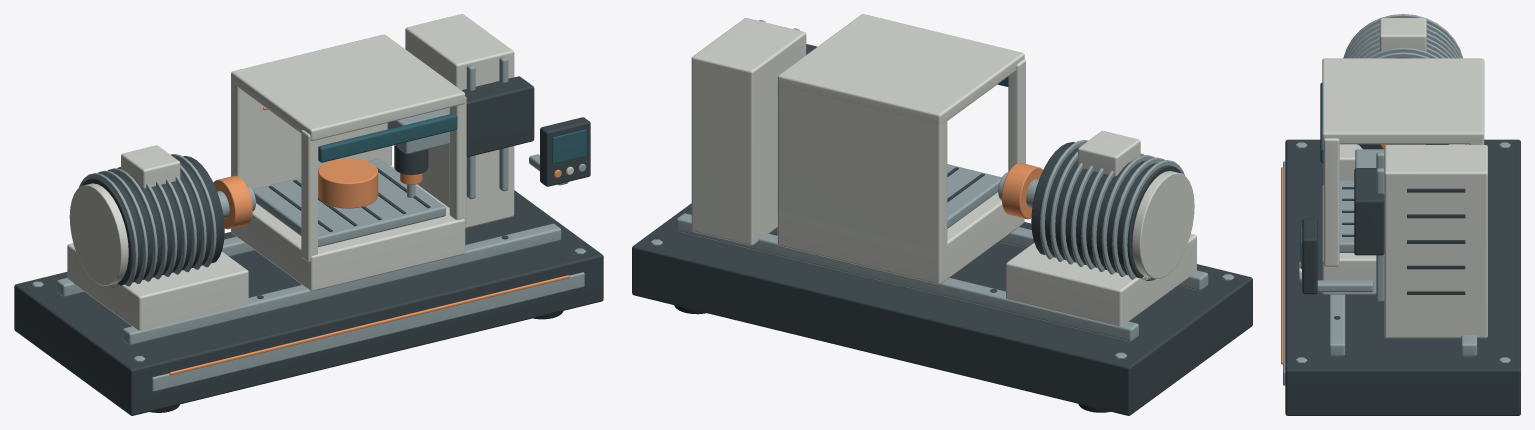
Rendered from machining-cell.glb.
3 renders of one model, left to right at view 1: azimuth 30°, elevation 25°; view 2: azimuth 150°, elevation 25°; view 3: azimuth 270°, elevation 25°, orthographic. The views are drawn at different scales.
Visible parts, largest first — view 1: Monolithic bed, Roof, Chamber tray, Tool tower, Motor pedestal, Rear enclosure, Precision rail, Chamber working plate, Motor casing, Bed inset, Drive cover, Tool carriage (+23 smaller); view 2: Monolithic bed, Rear enclosure, Tool tower, Roof, Chamber tray, Motor pedestal, Motor casing, Precision rail.001, Drive cover, Terminal housing, Chamber working plate, Enclosure column (+11 smaller); view 3: Monolithic bed, Tool tower, Roof, Tool carriage, Enclosure column.001, Chamber tray, Terminal housing, Operator panel, Precision rail, Chamber working plate, Control arm, Bed inset (+19 smaller).
Part boxes in pixels (<box>): Monolithic bed: <box>14,190,603,415</box>; Roof: <box>231,34,465,140</box>; Chamber tray: <box>231,165,465,291</box>; Tool tower: <box>405,14,514,228</box>; Motor pedestal: <box>67,243,248,330</box>; Rear enclosure: <box>231,81,391,189</box>; Precision rail: <box>122,223,561,345</box>; Chamber working plate: <box>252,158,445,247</box>; Motor casing: <box>82,156,224,287</box>; Bed inset: <box>152,272,584,391</box>; Drive cover: <box>69,183,128,285</box>; Tool carriage: <box>462,76,534,156</box>; Monolithic bed: <box>632,203,1252,415</box>; Rear enclosure: <box>777,85,947,249</box>; Tool tower: <box>691,18,806,245</box>; Roof: <box>777,14,1024,124</box>; Chamber tray: <box>777,192,1024,284</box>; Motor pedestal: <box>1006,234,1196,326</box>; Motor casing: <box>1031,142,1181,280</box>; Precision rail.001: <box>676,213,1138,341</box>; Drive cover: <box>1132,171,1194,279</box>; Terminal housing: <box>1078,131,1140,176</box>; Chamber working plate: <box>947,164,1001,228</box>; Enclosure column: <box>1008,59,1025,171</box>; Monolithic bed: <box>1285,139,1520,415</box>; Tool tower: <box>1384,145,1487,338</box>; Roof: <box>1322,58,1484,144</box>; Tool carriage: <box>1354,168,1384,255</box>; Enclosure column.001: <box>1323,138,1339,266</box>; Chamber tray: <box>1322,185,1376,294</box>; Terminal housing: <box>1379,18,1426,51</box>; Operator panel: <box>1302,218,1317,294</box>; Precision rail: <box>1329,294,1345,356</box>; Chamber working plate: <box>1339,180,1354,252</box>; Control arm: <box>1317,280,1373,292</box>; Bed inset: <box>1283,161,1285,385</box>.
Size of the model in its own units: 5.8 by 2.76 by 2.55.
